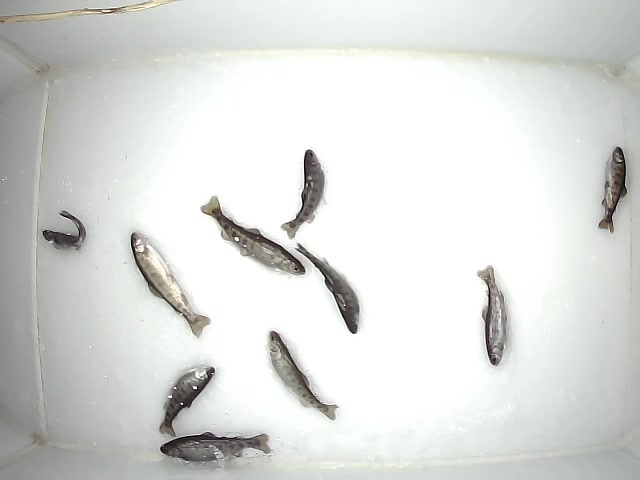fish: (127, 230, 212, 340), (199, 192, 306, 275), (264, 328, 340, 422), (293, 242, 362, 336), (278, 147, 327, 239), (157, 363, 215, 439), (159, 430, 272, 463), (475, 265, 510, 367), (596, 145, 632, 233), (39, 207, 94, 251)
